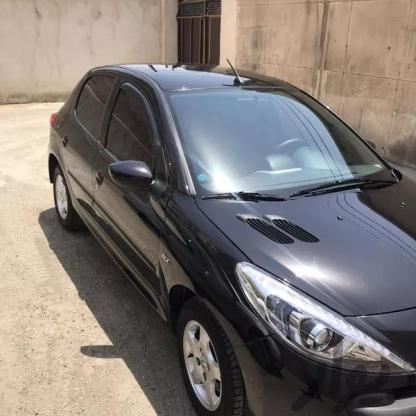Car: (44, 57, 416, 416)
